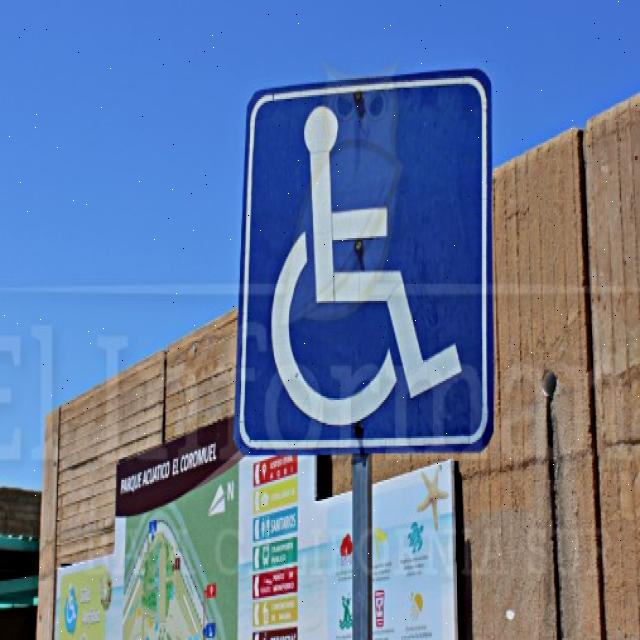symbol_of_access: (229, 64, 496, 459)
